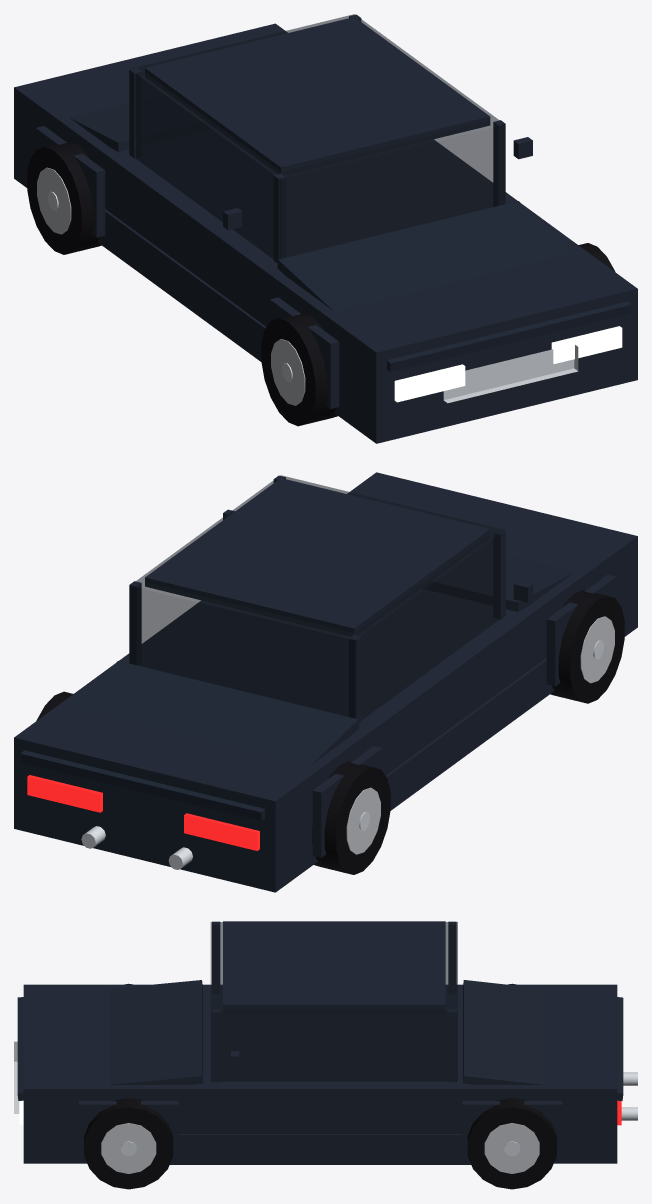
The model's file is car_sedan.glb.
3 views of the same model, one above another, from view 1: azimuth 30°, elevation 25°; view 2: azimuth 150°, elevation 25°; view 3: azimuth 270°, elevation 25° (orthographic). The views are drawn at different scales.
Parts seen in each view (by area): view 1: car_sedan; view 2: car_sedan; view 3: car_sedan.
Boxes of the visible parts, box(x1,y1,x2,y2) form: car_sedan: box(14, 14, 637, 443); car_sedan: box(14, 472, 637, 892); car_sedan: box(14, 921, 637, 1189).
Bounding box in the file's own units: 2.15 × 1.32 × 4.54.
